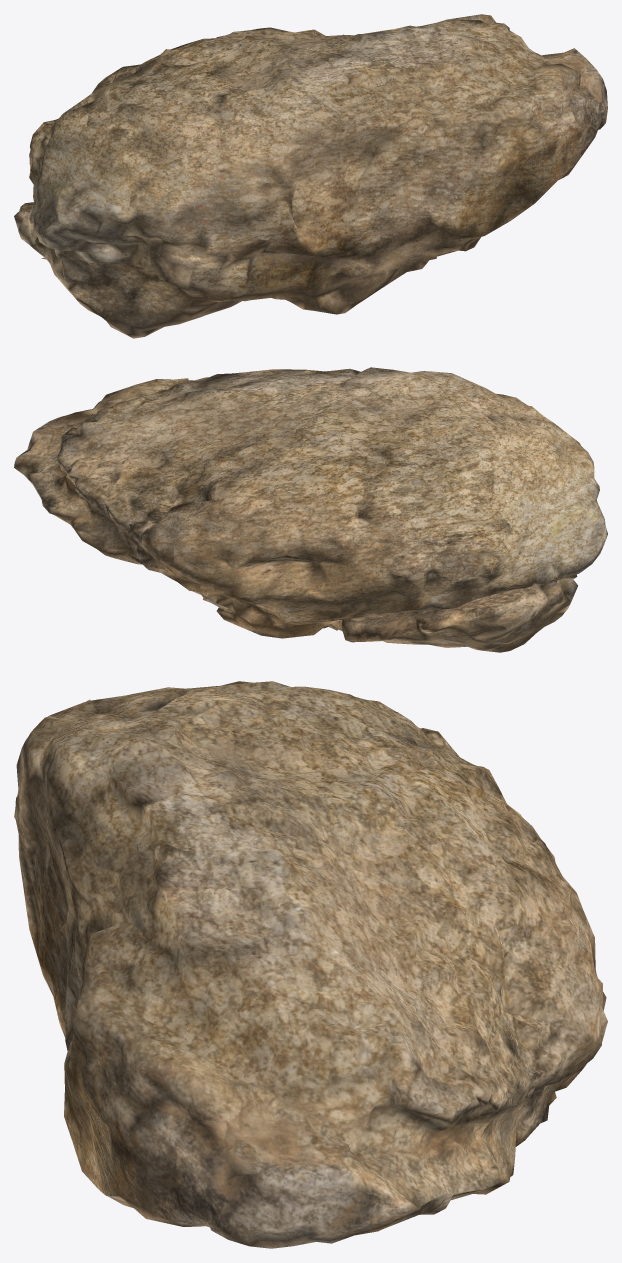
The model's file is rock_d.glb.
3 renders of one model, top to bottom at view 1: azimuth 30°, elevation 25°; view 2: azimuth 150°, elevation 25°; view 3: azimuth 270°, elevation 25°, orthographic. The views are drawn at different scales.
Parts seen in each view (by area): view 1: namaqualand_boulder_05; view 2: namaqualand_boulder_05; view 3: namaqualand_boulder_05.
Part boxes in pixels (left/top/right/bottom): namaqualand_boulder_05: left=14, top=14, right=607, bottom=338; namaqualand_boulder_05: left=14, top=367, right=607, bottom=652; namaqualand_boulder_05: left=14, top=681, right=607, bottom=1248.
Size of the model in its own units: 1.36 by 0.5383 by 0.7469.
Materials: 1 (1 with a texture image).
